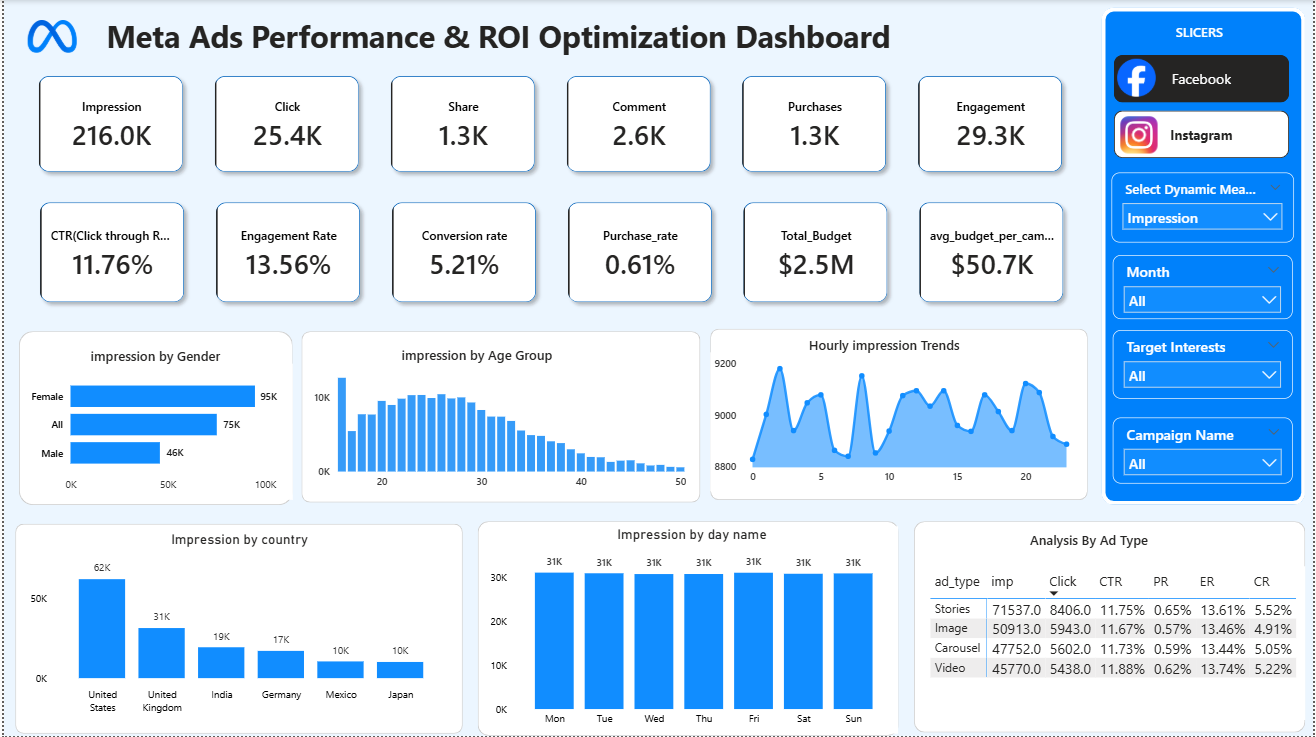

Layout of this report page (visuals, bound fields, positions):
{"tool":"powerbi","page":{"name":"Facebook","canvas":[1600,900],"ordinal":0},"visuals":[{"type":"shape","box":[1112.8,637.4,478.4,258.3],"z":0},{"type":"shape","box":[863.6,402.6,461.6,209.4],"z":1000},{"type":"shape","box":[578.7,637.7,514.8,262.3],"z":2000},{"type":"textbox","box":[100.9,13.8,1007.3,67.3],"z":3000},{"type":"image","box":[13.8,24.5,90.2,39.7],"z":4000},{"type":"shape","box":[1341.3,9.2,249.2,608.4],"z":5000},{"type":"cardVisual","fields":{"Data":["ad_events.impression","ad_events.Click","ad_events.Share","ad_events.Comment","ad_events.Purchases","ad_events.Engagement"]},"box":[13.8,64.2,1313,175.8],"z":6000},{"type":"cardVisual","fields":{"Data":["ad_events.CTR(Click through Rates)","ad_events.Engagement Rate","ad_events.Conversion rate","ad_events.Purchase_rate","ad_events.Total_Budget","ad_events.avg_budget_per_campaings"]},"box":[15.3,218.6,1311.5,180.4],"z":7000},{"type":"slicer","fields":{"Values":["Select Dynamic Measure.Select Dynamic Measure"]},"box":[1354.1,211.5,223,85.2],"z":8000},{"type":"shape","box":[18.3,405.1,334.8,212.5],"z":9000},{"type":"barChart","fields":{"Y":["ad_events.Impression"],"Category":["ads.target_gender"]},"box":[24,444.3,325.9,166.4],"z":10000},{"type":"cardVisual","fields":{"Data":["ad_events.Gender title"]},"box":[67.3,403.5,236.9,61.1],"z":11000},{"type":"shape","box":[363.8,405.1,487.6,209.4],"z":12000},{"type":"columnChart","fields":{"Y":["ad_events.Impression"],"Category":["Users.user_age"]},"box":[374.5,426.5,464.7,180.4],"z":13000},{"type":"cardVisual","fields":{"Data":["ad_events.Age title"]},"box":[450.9,398.9,255.3,67.3],"z":14000},{"type":"shape","box":[13.8,640.5,547.2,256.8],"z":15000},{"type":"columnChart","fields":{"Y":["ad_events.Impression"],"Category":["Users.country"]},"box":[27.5,649.6,521.2,230.8],"z":16000},{"type":"slicer","fields":{"Values":["Calender Table.Month"]},"box":[1355.7,311.5,219.7,78.7],"z":17000},{"type":"clusteredColumnChart","fields":{"Y":["ad_events.Impression"],"Category":["Calender Table.day name"]},"box":[584.9,643.2,502.6,253.9],"z":18000},{"type":"areaChart","fields":{"Y":["ad_events.Impression"],"Category":["ad_events.Event Hour"]},"box":[867.9,430.5,451.1,169.8],"z":19000},{"type":"cardVisual","fields":{"Data":["ad_events.Hourly title"]},"box":[930.9,388.2,292,65.7],"z":20000},{"type":"pivotTable","fields":{"Rows":["ads.ad_type"],"Values":["ad_events.impression","ad_events.Click","ad_events.CTR(Click through Rates)","ad_events.Purchase_rate","ad_events.Engagement Rate","ad_events.Conversion rate"]},"box":[1128.1,692.4,463.1,188],"z":21000},{"type":"slicer","fields":{"Values":["ads.target_interests"]},"box":[1355.7,403.3,219.7,83.6],"z":22000},{"type":"slicer","fields":{"Values":["Campaings.name"]},"box":[1355.8,510.5,220.1,81],"z":23000},{"type":"pageNavigator","box":[1356.7,67.9,214.8,126.2],"z":24000},{"type":"image","box":[1362.7,142.5,48.9,45.6],"z":25000},{"type":"image","box":[1360.5,72.5,48.9,46.7],"z":26000},{"type":"textbox","box":[1238.1,643.5,177.3,48.9],"z":27000},{"type":"textbox","box":[1386.9,23,150.8,41],"z":28000}]}

Visuals, with their boxes in screenshot pixels (x1, y1, x2, y2), scaled from the page's 1600x900 canvas onto the 1316x737 screenshot:
shape: region(915, 522, 1309, 733)
shape: region(710, 330, 1090, 501)
shape: region(476, 522, 899, 736)
textbox: region(83, 11, 911, 66)
image: region(11, 20, 86, 53)
shape: region(1103, 8, 1308, 506)
cardVisual - ad_events.impression x ad_events.Click: region(11, 53, 1091, 197)
cardVisual - ad_events.CTR(Click through Rates) x ad_events.Engagement Rate: region(13, 179, 1091, 327)
slicer - Select Dynamic Measure.Select Dynamic Measure: region(1114, 173, 1297, 243)
shape: region(15, 332, 290, 506)
barChart - ad_events.Impression x ads.target_gender: region(20, 364, 288, 500)
cardVisual - ad_events.Gender title: region(55, 330, 250, 380)
shape: region(299, 332, 700, 503)
columnChart - ad_events.Impression x Users.user_age: region(308, 349, 690, 497)
cardVisual - ad_events.Age title: region(371, 327, 581, 382)
shape: region(11, 524, 461, 735)
columnChart - ad_events.Impression x Users.country: region(23, 532, 451, 721)
slicer - Calender Table.Month: region(1115, 255, 1296, 320)
clusteredColumnChart - ad_events.Impression x Calender Table.day name: region(481, 527, 894, 735)
areaChart - ad_events.Impression x ad_events.Event Hour: region(714, 353, 1085, 492)
cardVisual - ad_events.Hourly title: region(766, 318, 1006, 372)
pivotTable - ads.ad_type x ad_events.impression: region(928, 567, 1309, 721)
slicer - ads.target_interests: region(1115, 330, 1296, 399)
slicer - Campaings.name: region(1115, 418, 1296, 484)
pageNavigator: region(1116, 56, 1293, 159)
image: region(1121, 117, 1161, 154)
image: region(1119, 59, 1159, 98)
textbox: region(1018, 527, 1164, 567)
textbox: region(1141, 19, 1265, 52)
